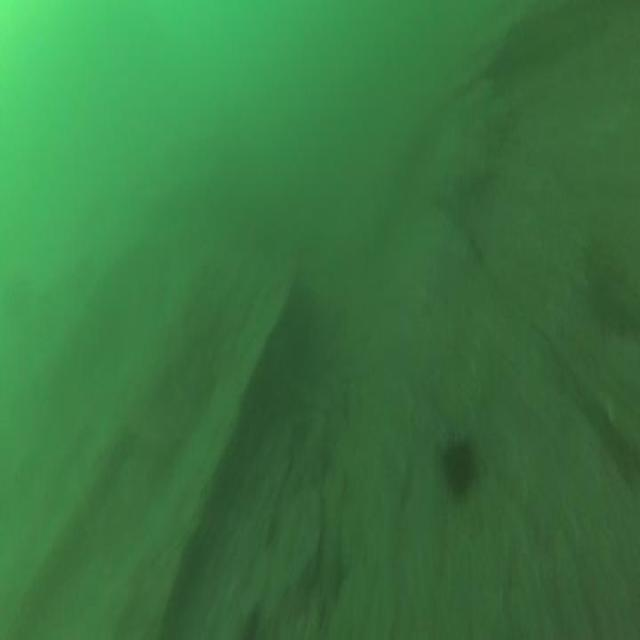echinus: (432, 422, 483, 509)
